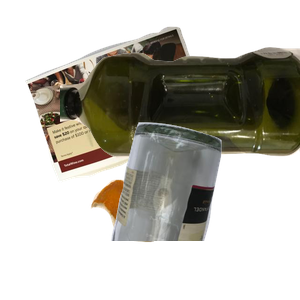glass: (109, 120, 300, 300)
paper: (23, 24, 232, 199)
plastic: (60, 44, 300, 195)
trash: (88, 177, 251, 300)
